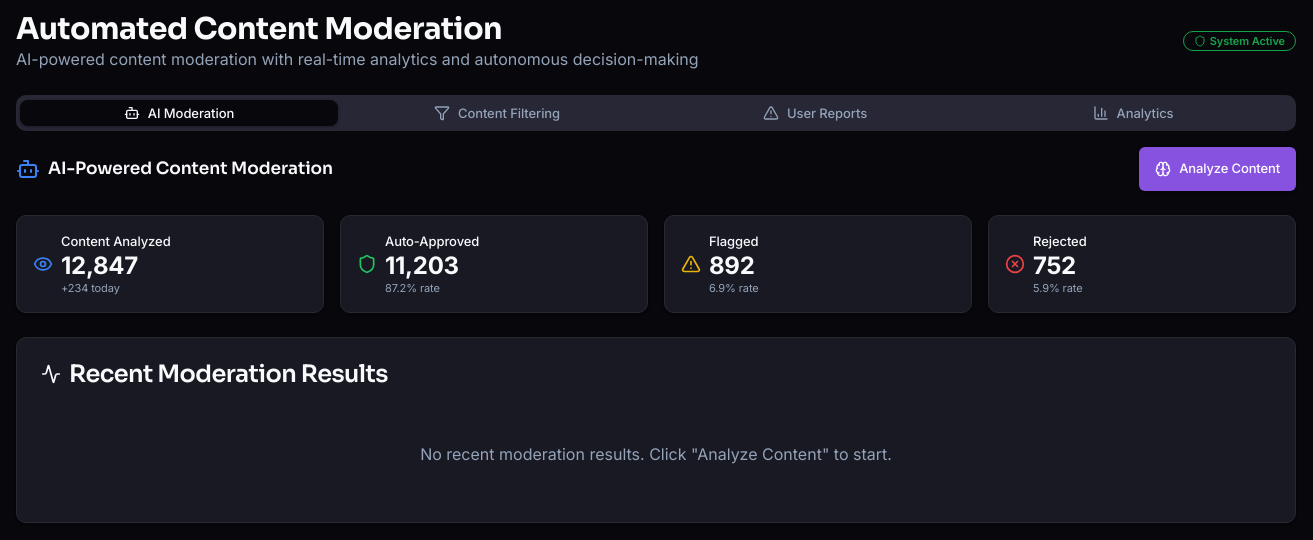
Test: AutomatedContentModerationDashboard › Error Handling › should handle network timeouts
Step 1. Click the tab "Analytics" → (1133, 113), box [974,100,1292,126]
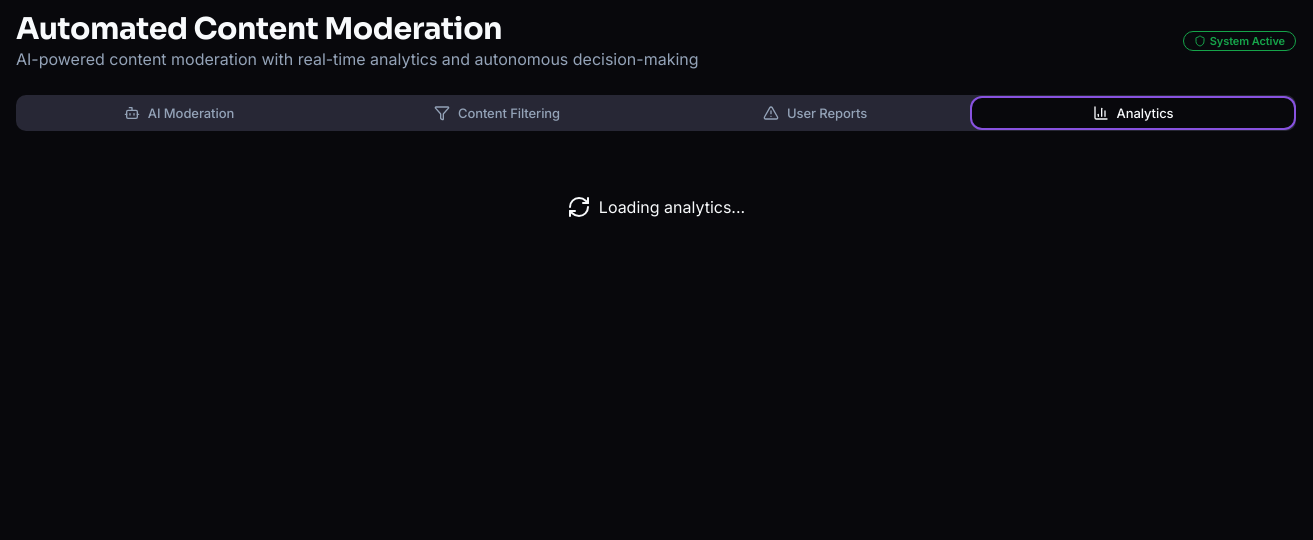
expect the text "Loading analytics..." is shown: met, box [599,195,745,219]
